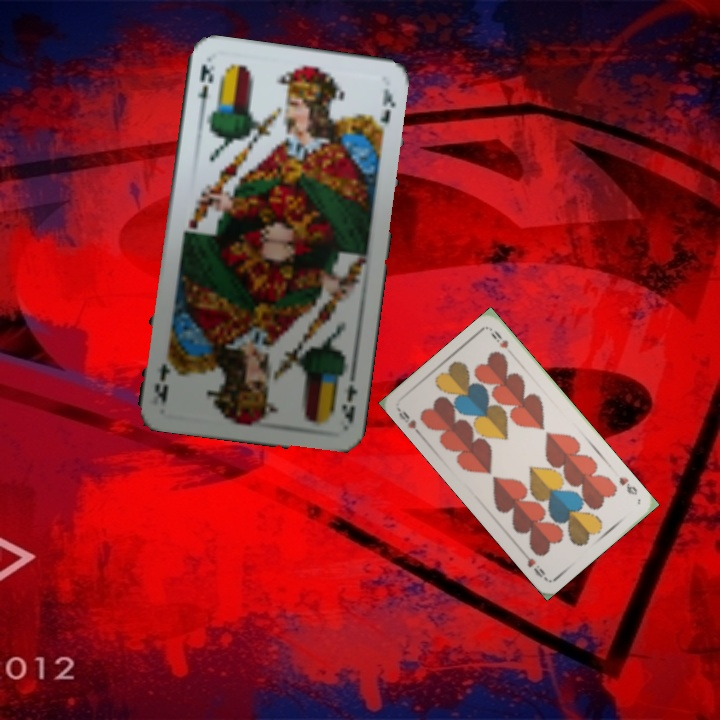EK: (193, 59, 217, 118), (338, 371, 360, 426)
H9: (394, 405, 425, 439), (615, 473, 640, 497)
